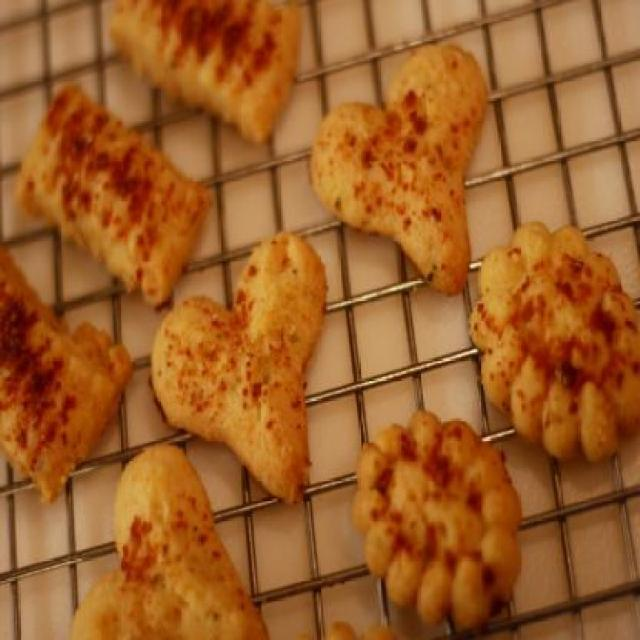Cookie: (150, 226, 332, 508), (309, 34, 488, 300), (12, 81, 212, 306), (466, 214, 640, 470), (68, 438, 272, 639), (354, 397, 520, 632), (0, 238, 135, 506), (106, 0, 302, 143)
